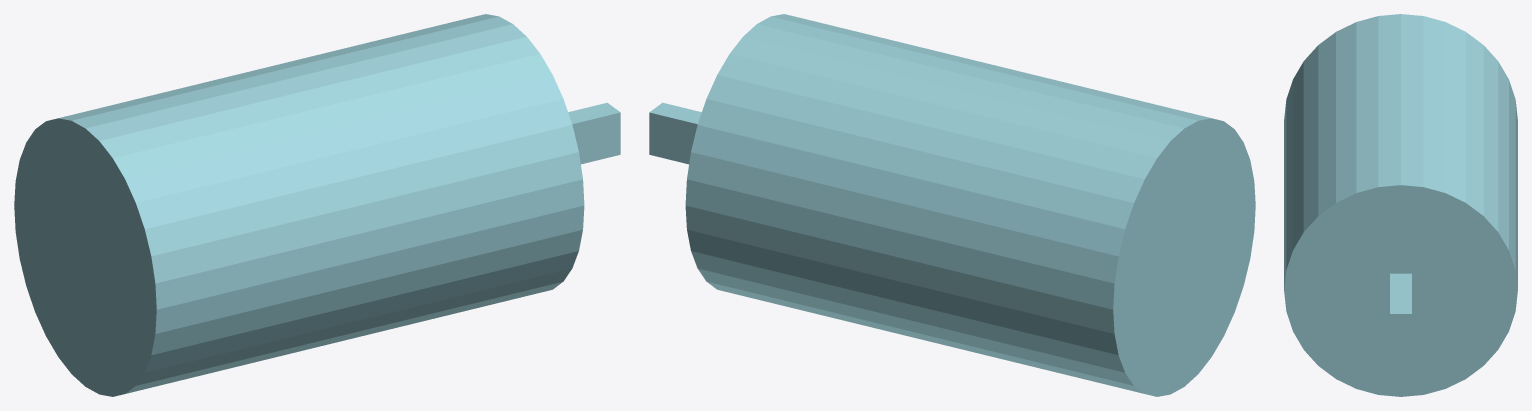
The model's file is cylinder_marker_v4002.obj.
The picture shows the model from 3 angles, left to right: view 1: azimuth 30°, elevation 25°; view 2: azimuth 150°, elevation 25°; view 3: azimuth 270°, elevation 25°; orthographic projection. The views are drawn at different scales.
Bounding box in the file's own units: 0.1276 × 0.0596 × 0.0596.
Materials: 1 (1 with a texture image).
